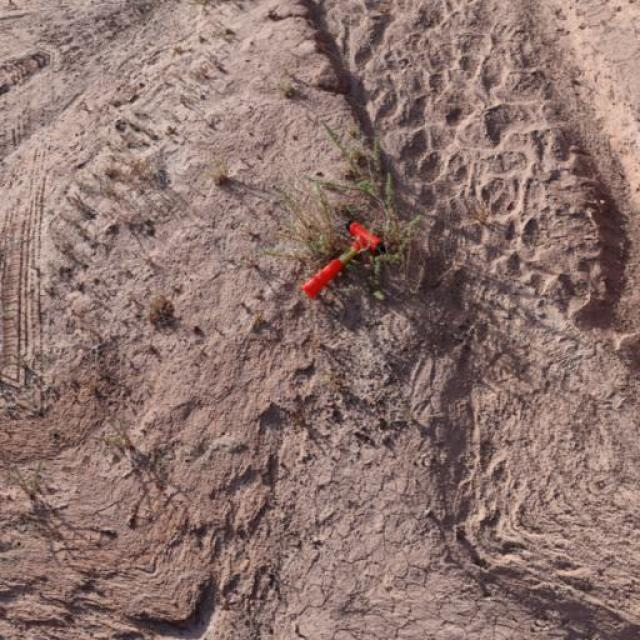mallet: (299, 219, 385, 300)
